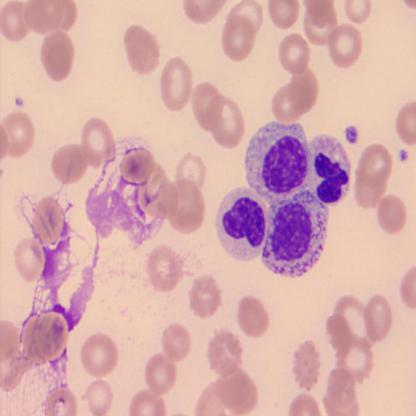Myelocyte: (262, 187, 332, 280)
